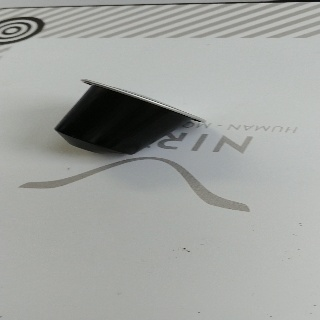capsule_10: (52, 78, 206, 157)
